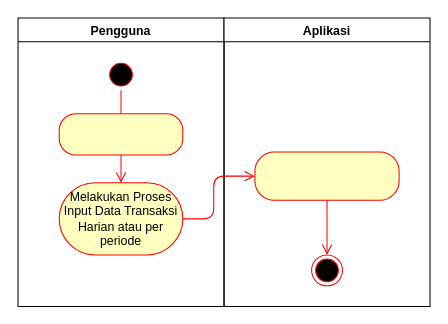
The diagram is 448 pixels wide and 324 high, and some of its shapes have lost their labels. The centre of each missing label's shape, as x and y in pixels:
"Melakukan Proses Login" goes at point 120,134.
"Menampilkan Rekap Pendapatan" goes at point 326,175.
